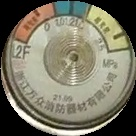green: (54, 2, 91, 21)
needle: (80, 4, 89, 40)
red: (13, 2, 56, 44)
yellow: (88, 5, 130, 52)
